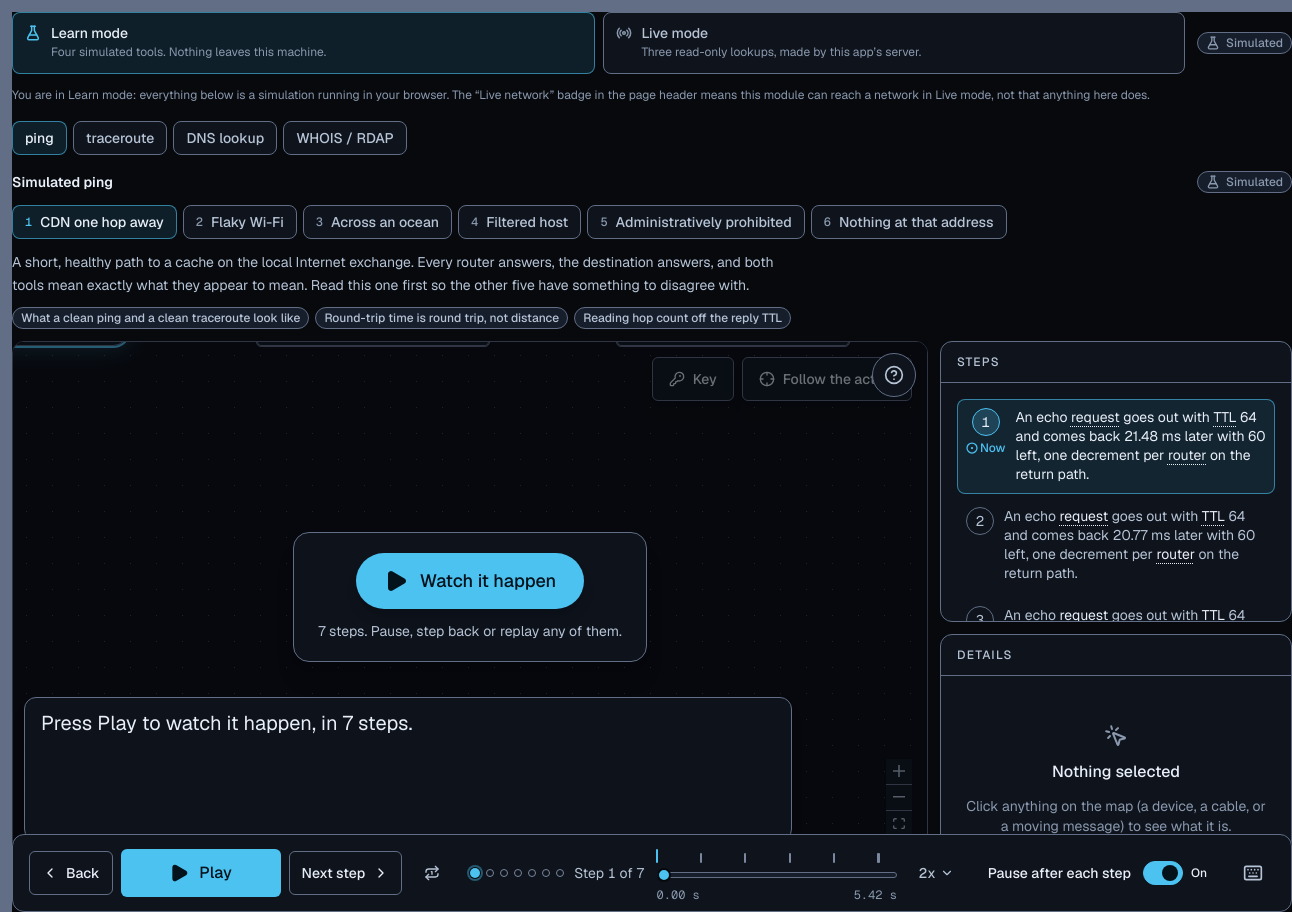
Test case: the acknowledgement gate › will not confirm until the checkbox is ticked
Click the button "Live mode": {"x": 894, "y": 43} x1=602 y1=12 x2=1185 y2=74
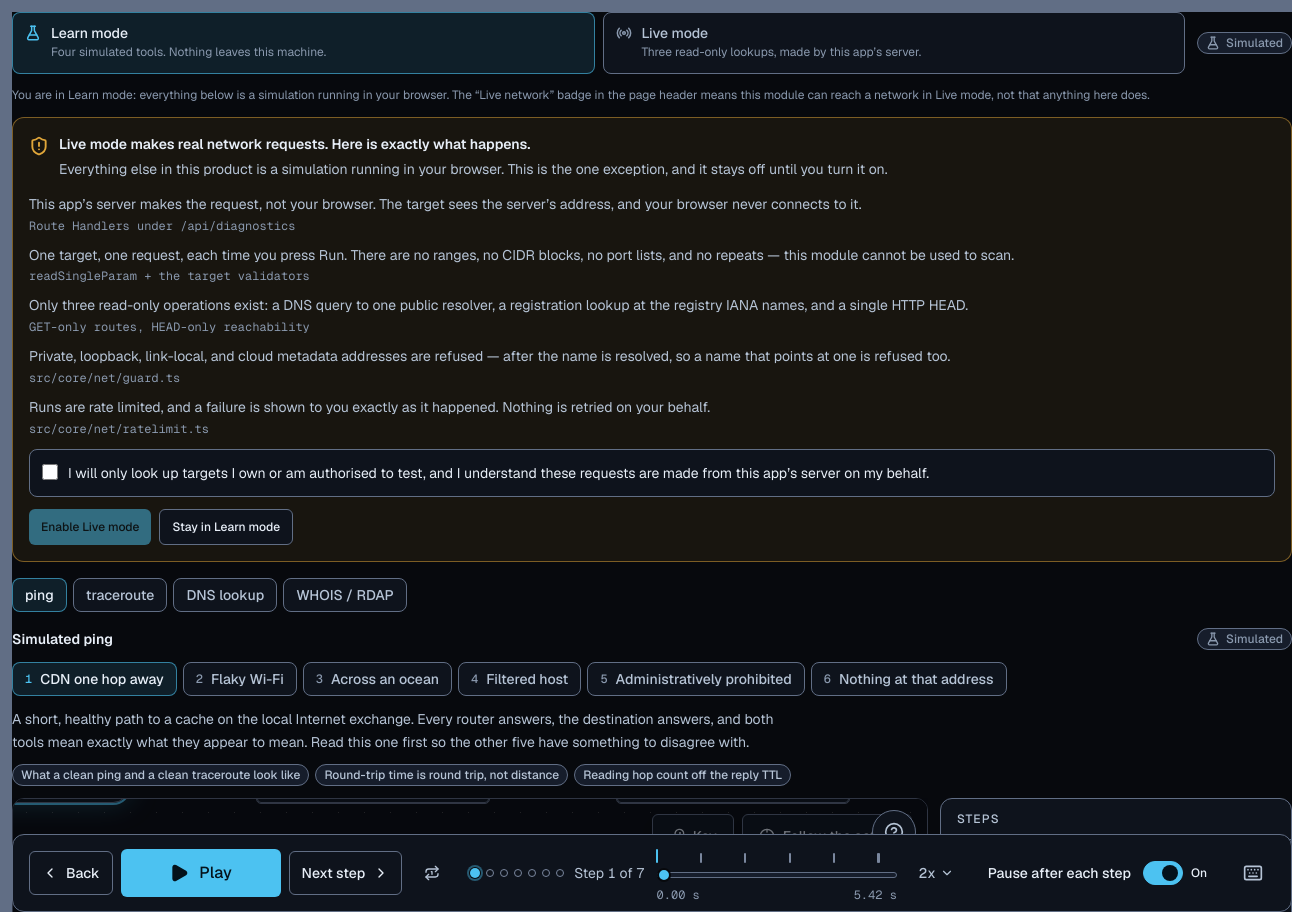
Result: the button "Enable Live mode" is disabled at x1=29 y1=509 x2=152 y2=545
Click the checkbox: {"x": 50, "y": 472} x1=42 y1=464 x2=58 y2=480
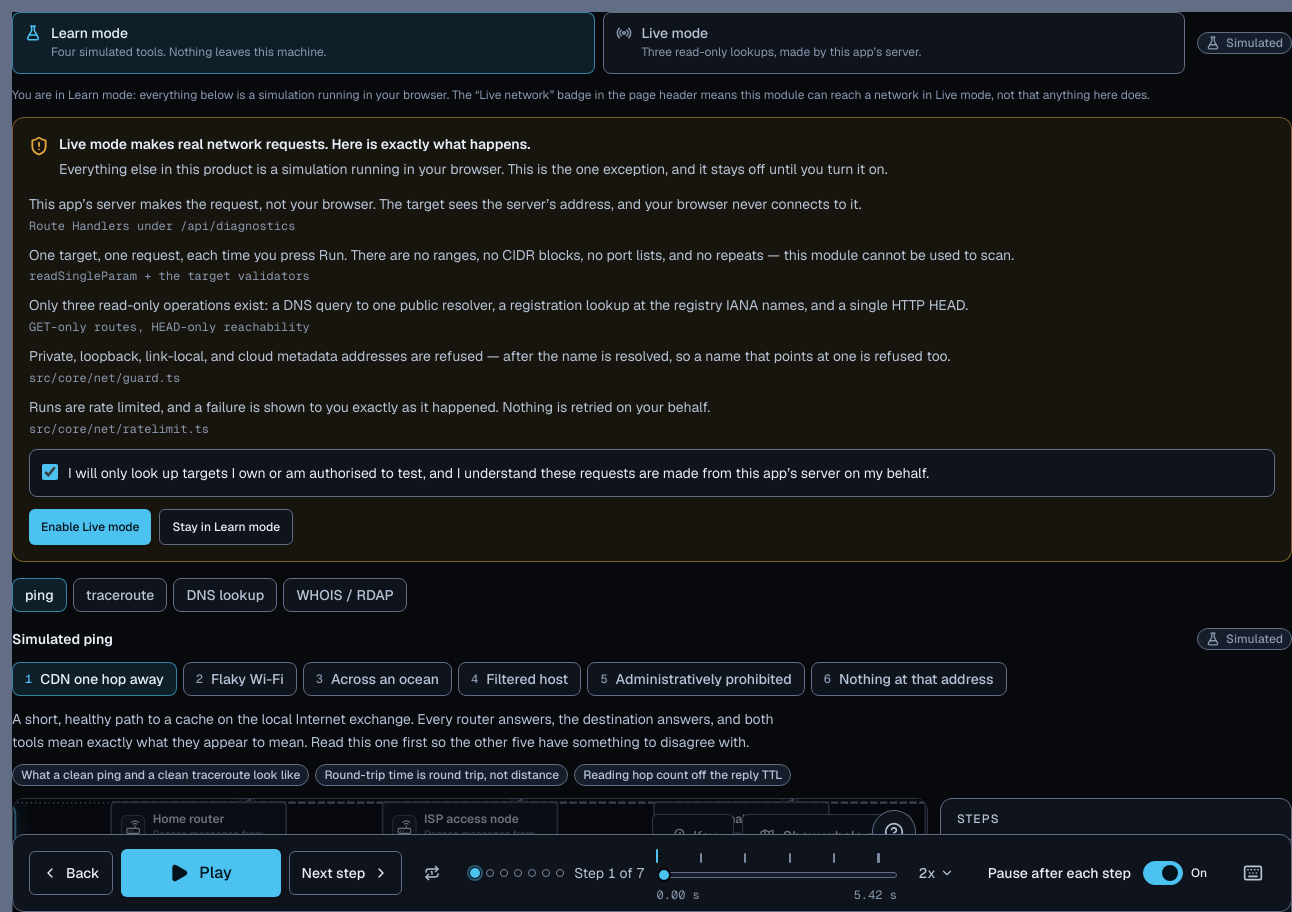
Result: the button "Enable Live mode" is enabled at x1=29 y1=509 x2=152 y2=545
